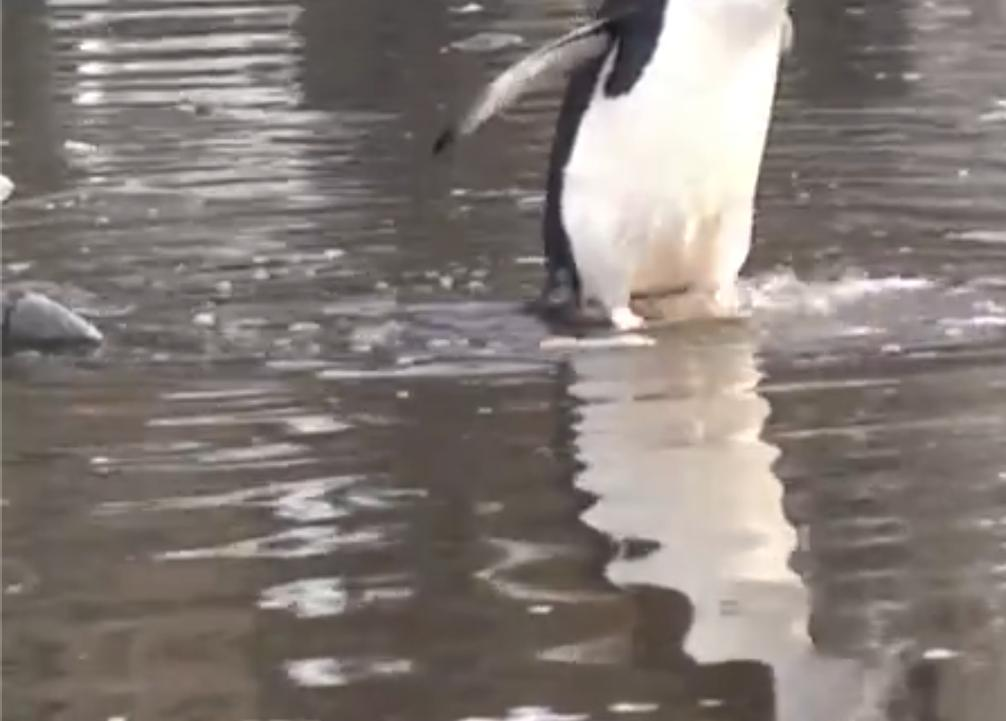Chinstrap Penguin: (440, 0, 948, 342)
